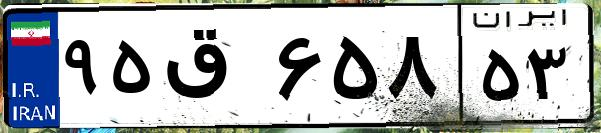3: (525, 38, 570, 115)
5: (330, 28, 385, 110), (475, 38, 525, 113), (110, 28, 158, 98)
6: (270, 28, 330, 110)
8: (385, 28, 445, 110)
9: (57, 26, 110, 100)
ق: (158, 20, 270, 120)
